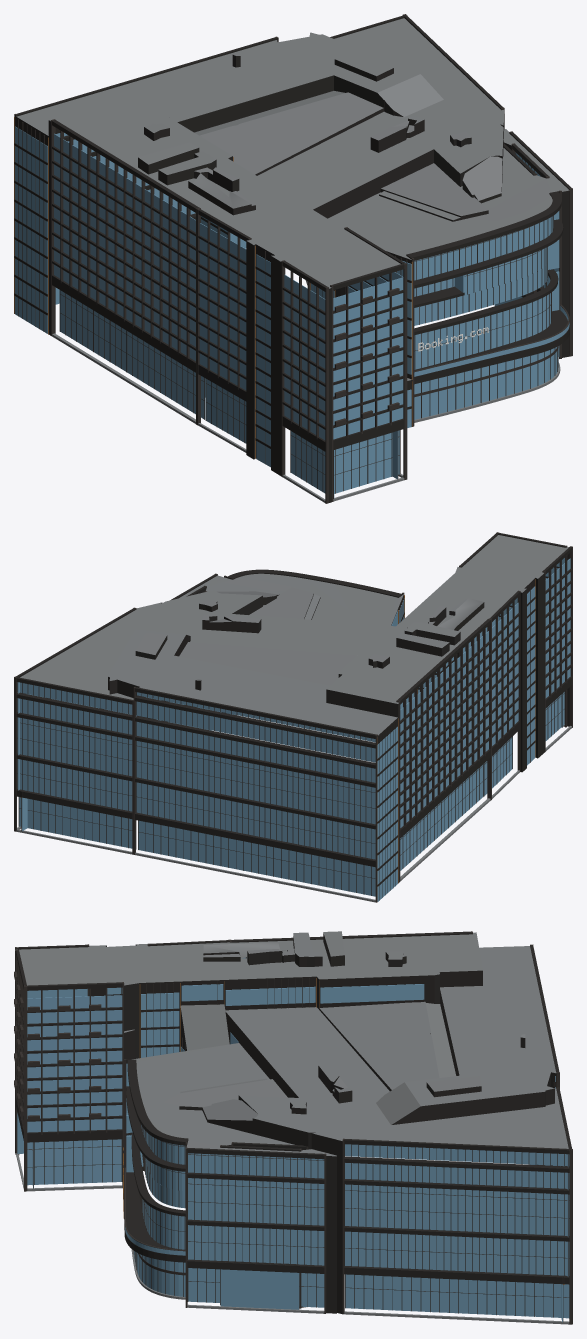
File: booking-hq.glb
3 renders of one model, top to bottom at view 1: azimuth 30°, elevation 25°; view 2: azimuth 150°, elevation 25°; view 3: azimuth 270°, elevation 25°, orthographic. The views are drawn at different scales.
Parts seen in each view (by area): view 1: booking-hq; view 2: booking-hq; view 3: booking-hq.
Boxes of the visible parts, left/top/right/bottom form: booking-hq: left=14, top=14, right=572, bottom=503; booking-hq: left=14, top=532, right=572, bottom=902; booking-hq: left=14, top=931, right=572, bottom=1324.
Bounding box in the file's own units: 96.67 × 50.64 × 119.
